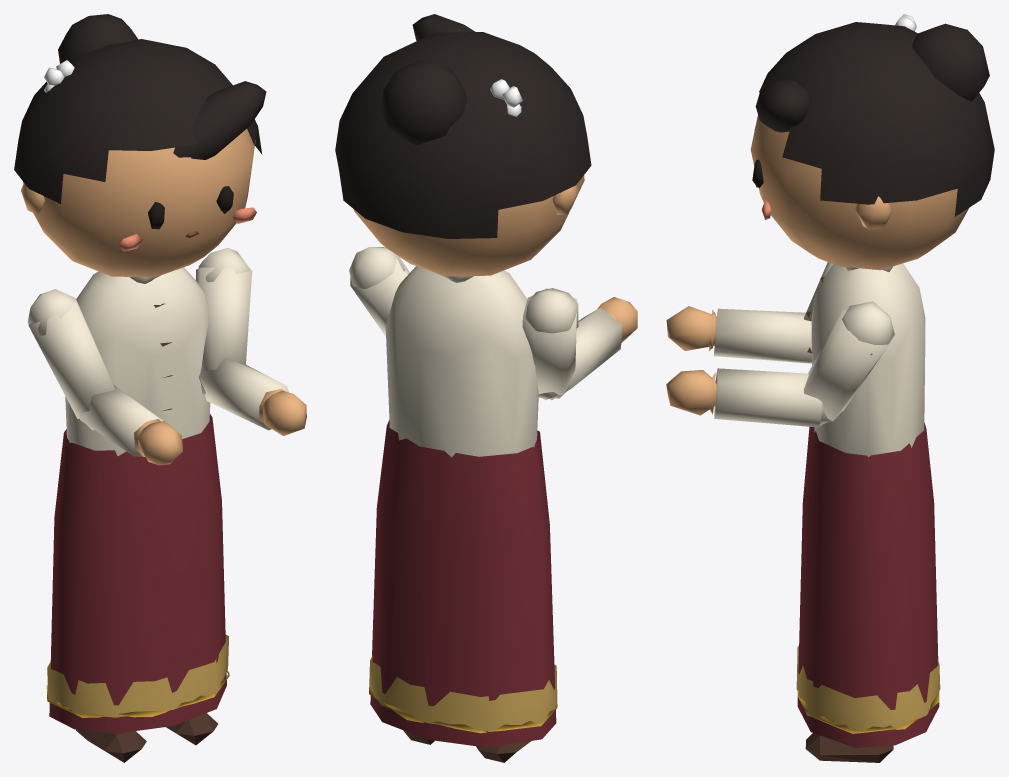
The model's file is north_lanna_woman.glb.
3 views of the same model, side by side, from view 1: azimuth 30°, elevation 25°; view 2: azimuth 150°, elevation 25°; view 3: azimuth 270°, elevation 25° (orthographic). The views are drawn at different scales.
Parts seen in each view (by area): view 1: body, head, arm_R, arm_L, forearm_L, forearm_R, shin_R, shin_L; view 2: body, head, arm_R, forearm_R, arm_L, shin_R; view 3: body, head, forearm_L, forearm_R, arm_L, shin_L.
Part boxes in pixels (x1=…): body: x1=46, y1=267, x2=229, y2=733; head: x1=14, y1=14, x2=266, y2=277; arm_R: x1=27, y1=289, x2=114, y2=418; arm_L: x1=195, y1=248, x2=252, y2=382; forearm_L: x1=199, y1=358, x2=306, y2=435; forearm_R: x1=80, y1=384, x2=182, y2=465; shin_R: x1=76, y1=729, x2=146, y2=762; shin_L: x1=166, y1=713, x2=218, y2=745; body: x1=369, y1=266, x2=557, y2=747; head: x1=335, y1=14, x2=591, y2=276; arm_R: x1=522, y1=288, x2=578, y2=399; forearm_R: x1=538, y1=297, x2=637, y2=400; arm_L: x1=349, y1=247, x2=409, y2=336; shin_R: x1=476, y1=741, x2=530, y2=762; body: x1=796, y1=263, x2=940, y2=747; head: x1=750, y1=14, x2=994, y2=270; forearm_L: x1=666, y1=368, x2=842, y2=427; forearm_R: x1=666, y1=306, x2=811, y2=363; arm_L: x1=803, y1=301, x2=894, y2=423; shin_L: x1=805, y1=733, x2=893, y2=762.
Bounding box in the file's own units: 0.4966 × 1.48 × 0.6148.
